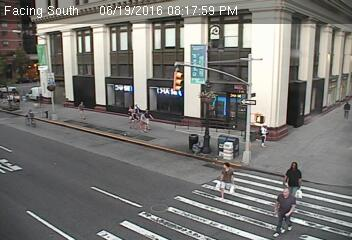neg: (116, 59, 148, 102), (192, 83, 218, 117), (205, 122, 226, 150), (73, 63, 94, 91), (8, 43, 29, 71), (18, 102, 38, 129), (28, 52, 46, 76)
pos: (271, 186, 305, 232), (210, 157, 239, 197), (254, 119, 274, 146), (137, 105, 157, 131), (120, 102, 138, 127), (72, 96, 90, 120), (336, 95, 351, 122)
